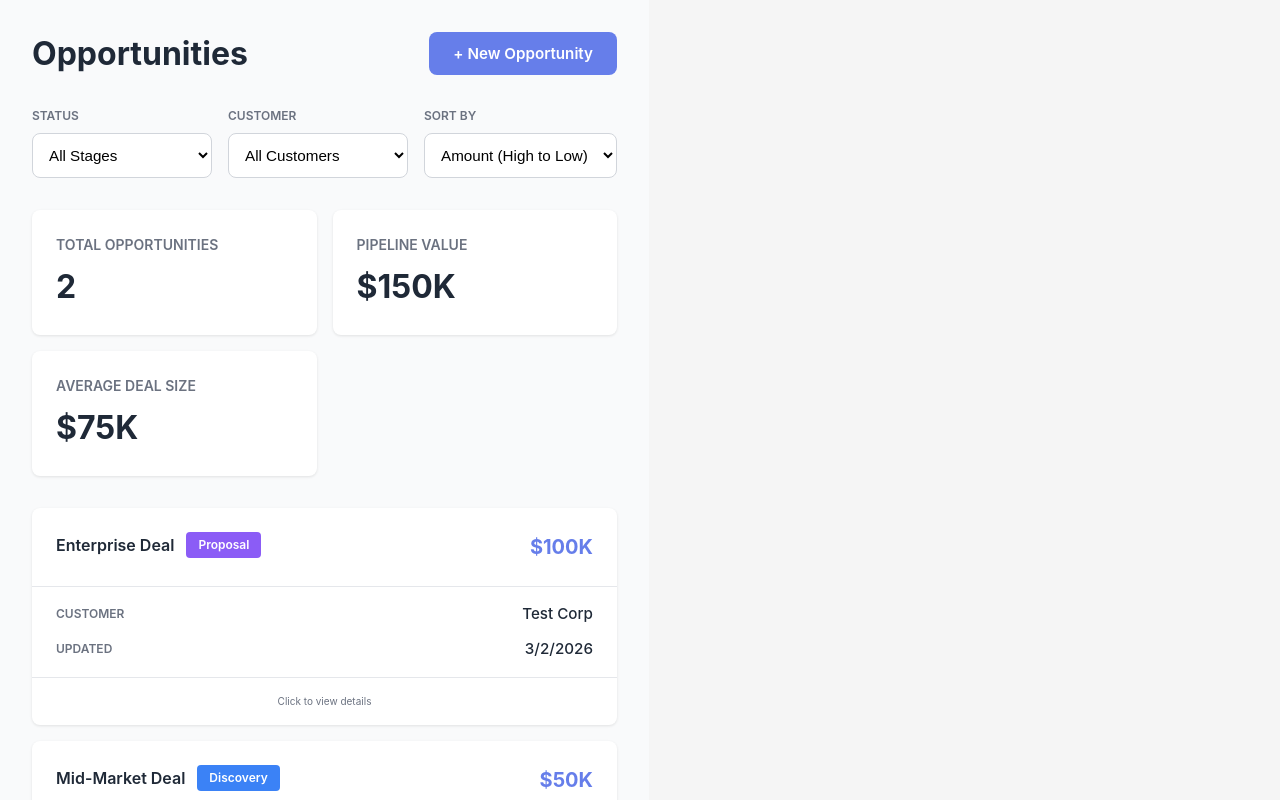
OpportunitiesPage › should open detail modal on card click
Click the text "Enterprise Deal" at [324, 616], box x1=32 y1=508 x2=617 y2=725
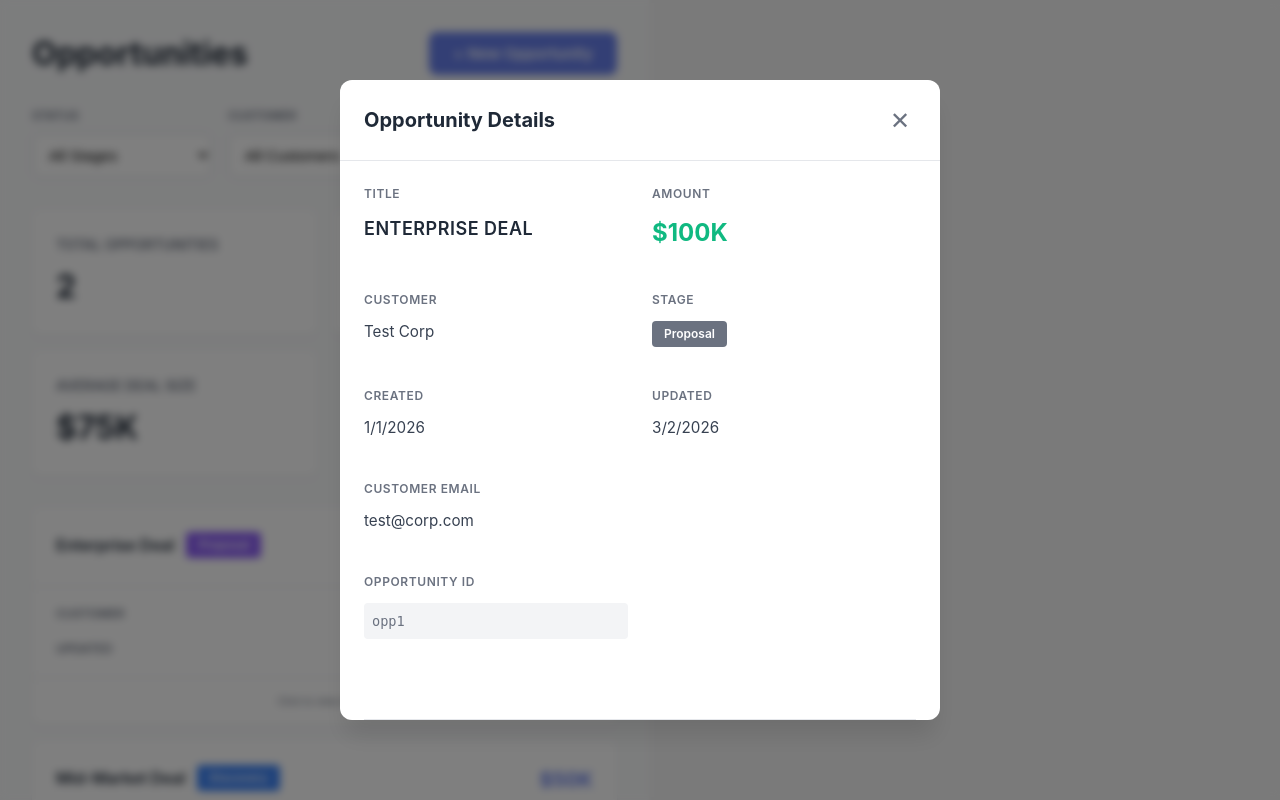
Check: the heading "Opportunity Details" is shown, box x1=364 y1=105 x2=555 y2=135
